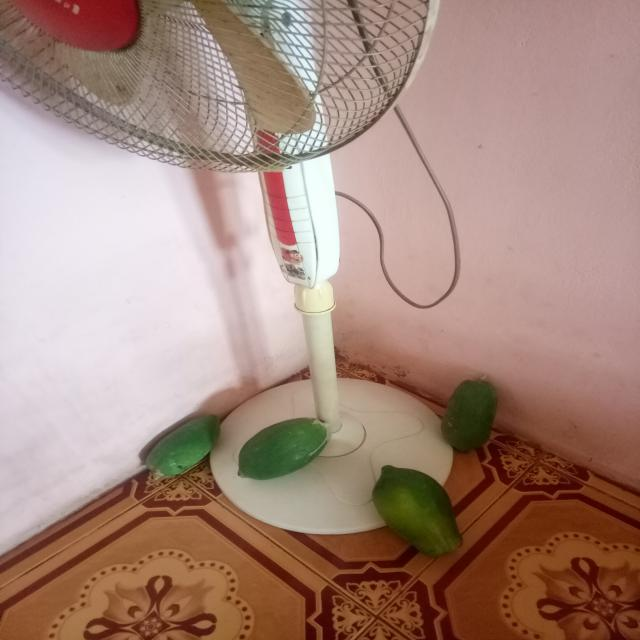Pepaya unrippen: (367, 464, 469, 560), (240, 418, 323, 483), (146, 415, 226, 479), (440, 371, 496, 451)
